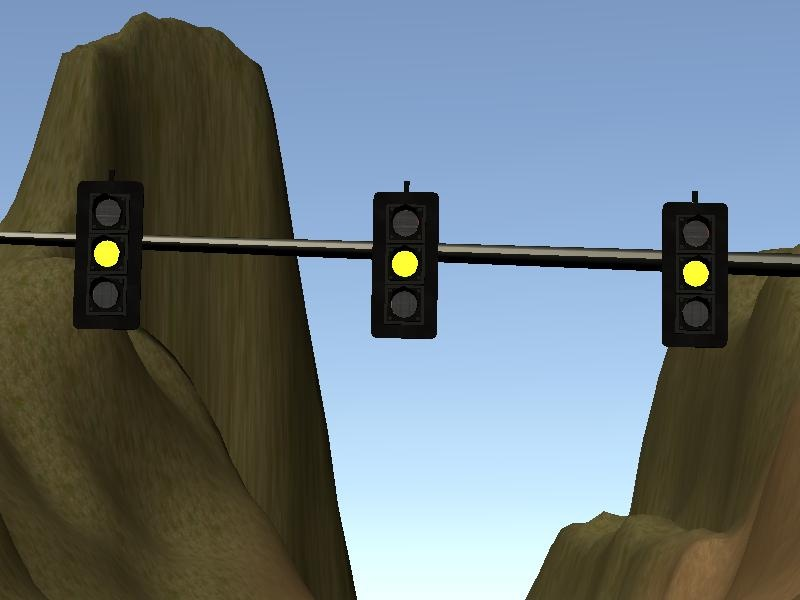yellow: (72, 178, 145, 331), (371, 190, 439, 341), (662, 199, 728, 350)
